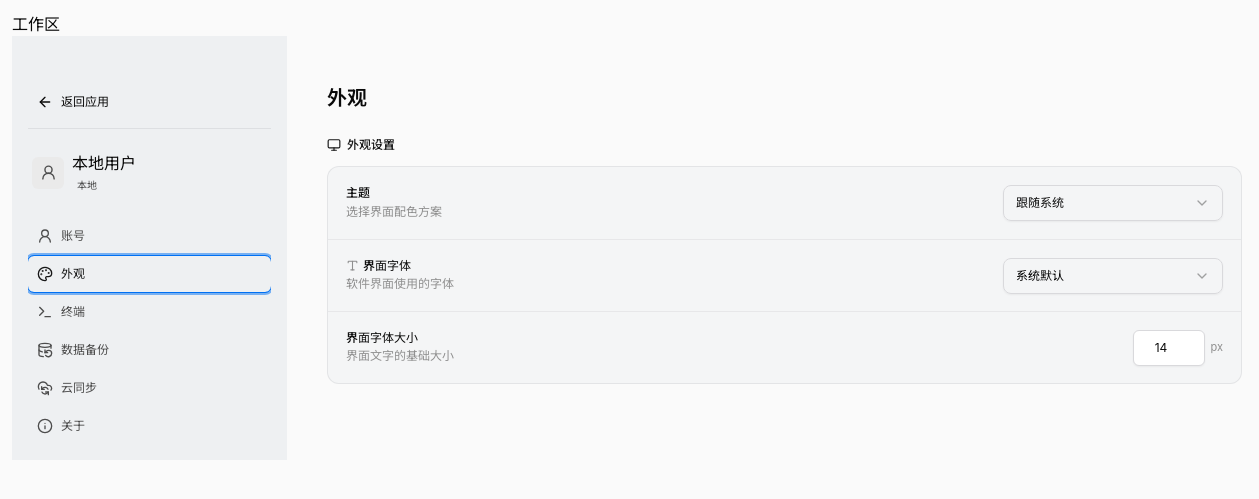
账号设置从 appearance 入口打开后保持工作区和分类切换可用
Expected: the element with class "settings-page-profile" shows "本地用户", [72, 153, 136, 173]
Press the mouse on the tab "账号" at (150, 236), box [28, 218, 271, 254]
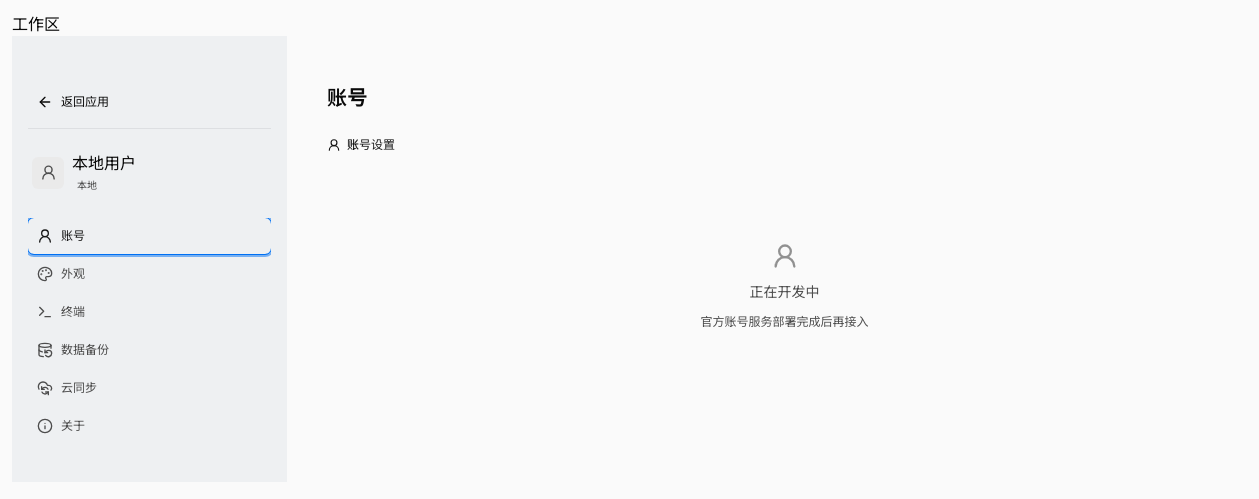
Expected: the text "工作区" is shown, [12, 14, 60, 34]
Result: the panel shows "正在开发中" at [750, 283, 820, 300]
Result: the number field is gone
Press the mouse on the tab "外观" at (150, 274), box [28, 256, 271, 292]
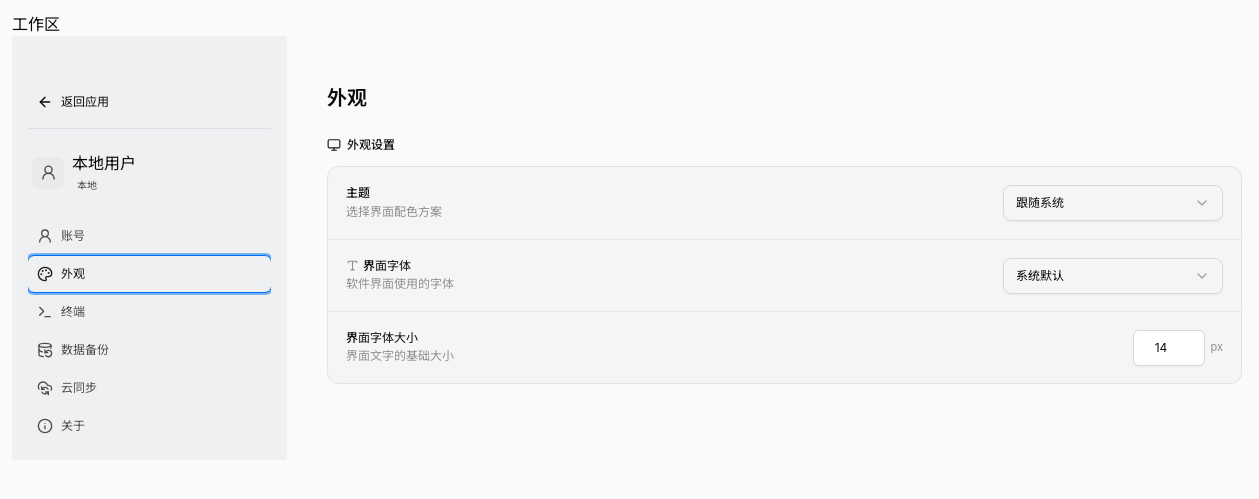
Result: the panel shows "外观设置" at [347, 137, 395, 152]
Press the mouse on the tab "账号" at (150, 236), box [28, 218, 271, 254]
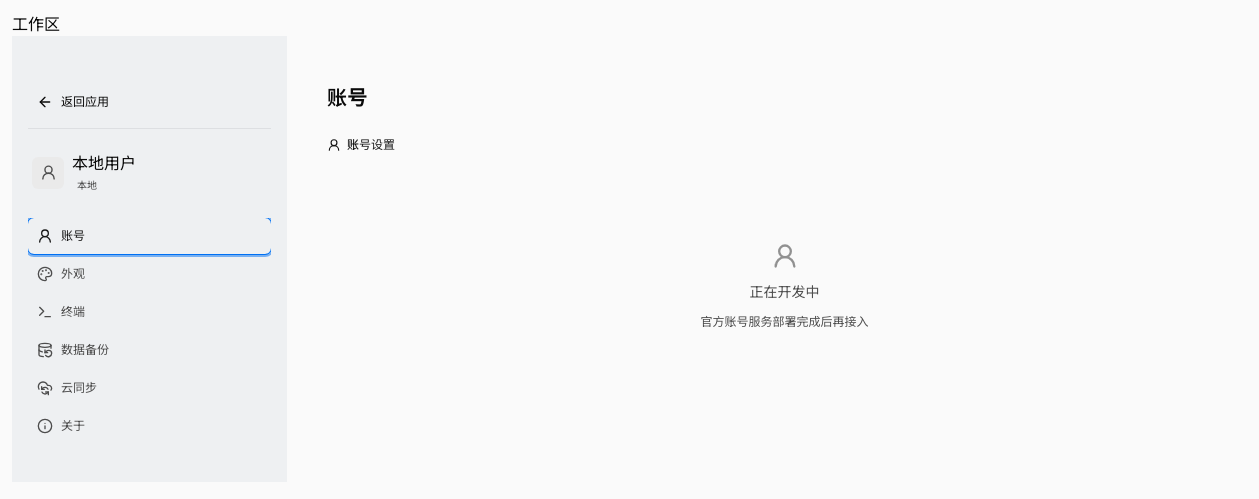
Expected: the text "工作区" is shown, [12, 14, 60, 34]
Result: the panel shows "正在开发中" at [750, 283, 820, 300]
Result: the number field is gone
Press the mouse on the tab "外观" at (150, 274), box [28, 256, 271, 292]
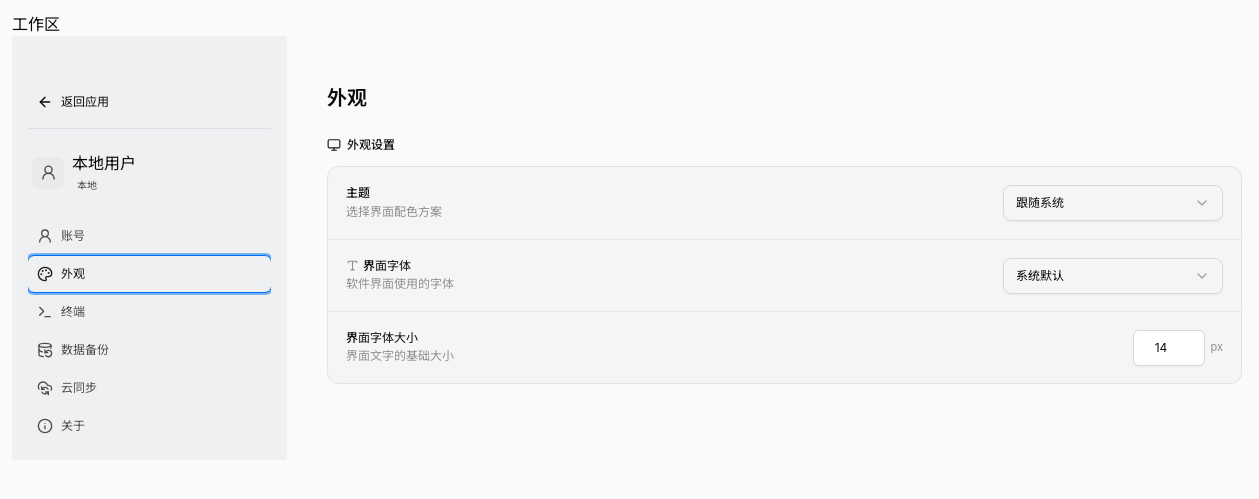
Result: the panel shows "外观设置" at [347, 137, 395, 152]
